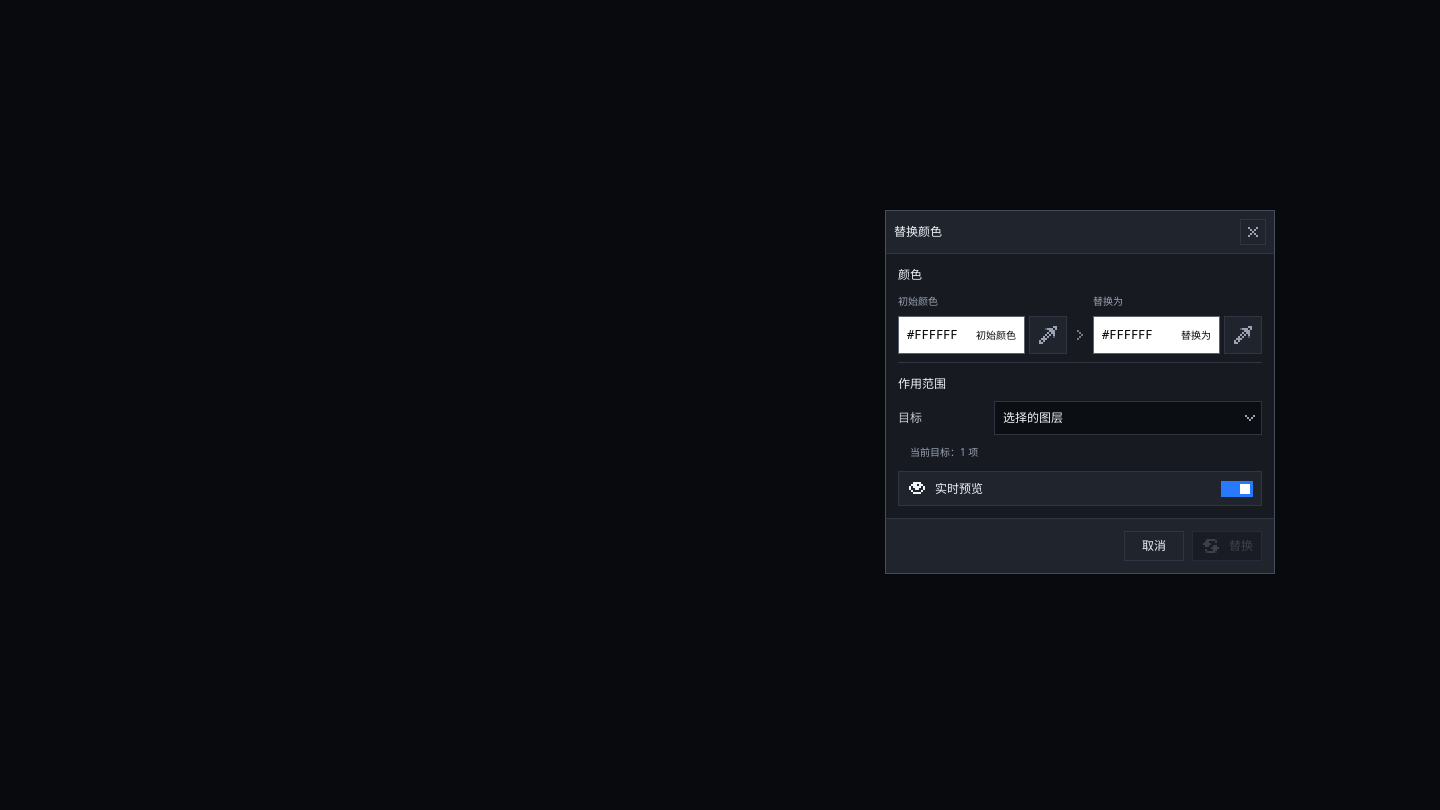
Scenario: ColorReplacementDialog › samples each color field without overwriting the other field
The image size is (1440, 810).
Click the button named "从画布吸取替换颜色".
click(1243, 335)  # box 1224,316 -> 1262,354
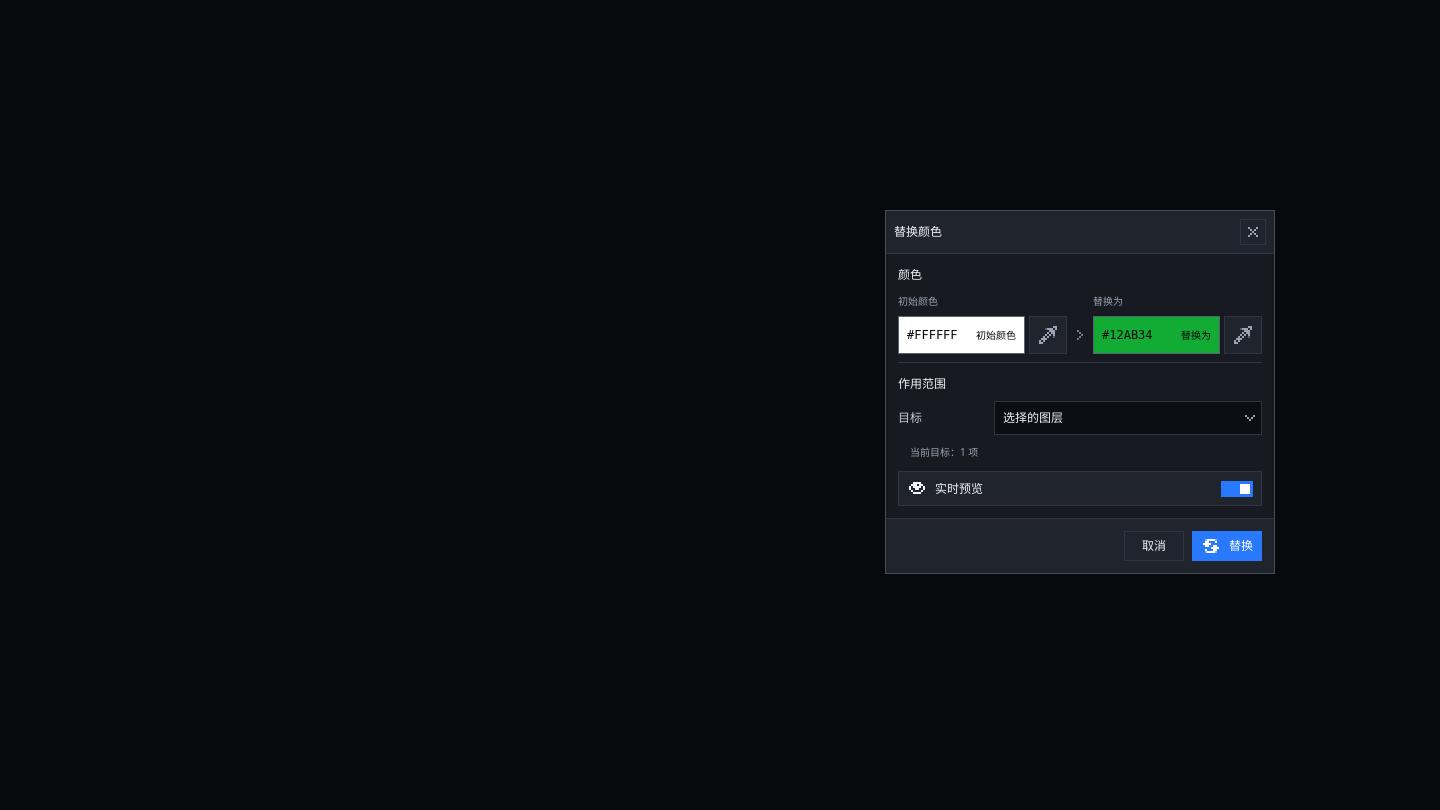
Expected: the button with aria-label "替换为 替换为" shows "#12AB34", 1093,316 -> 1220,354
Click the button named "从画布吸取初始颜色".
click(1048, 335)  # box 1029,316 -> 1067,354
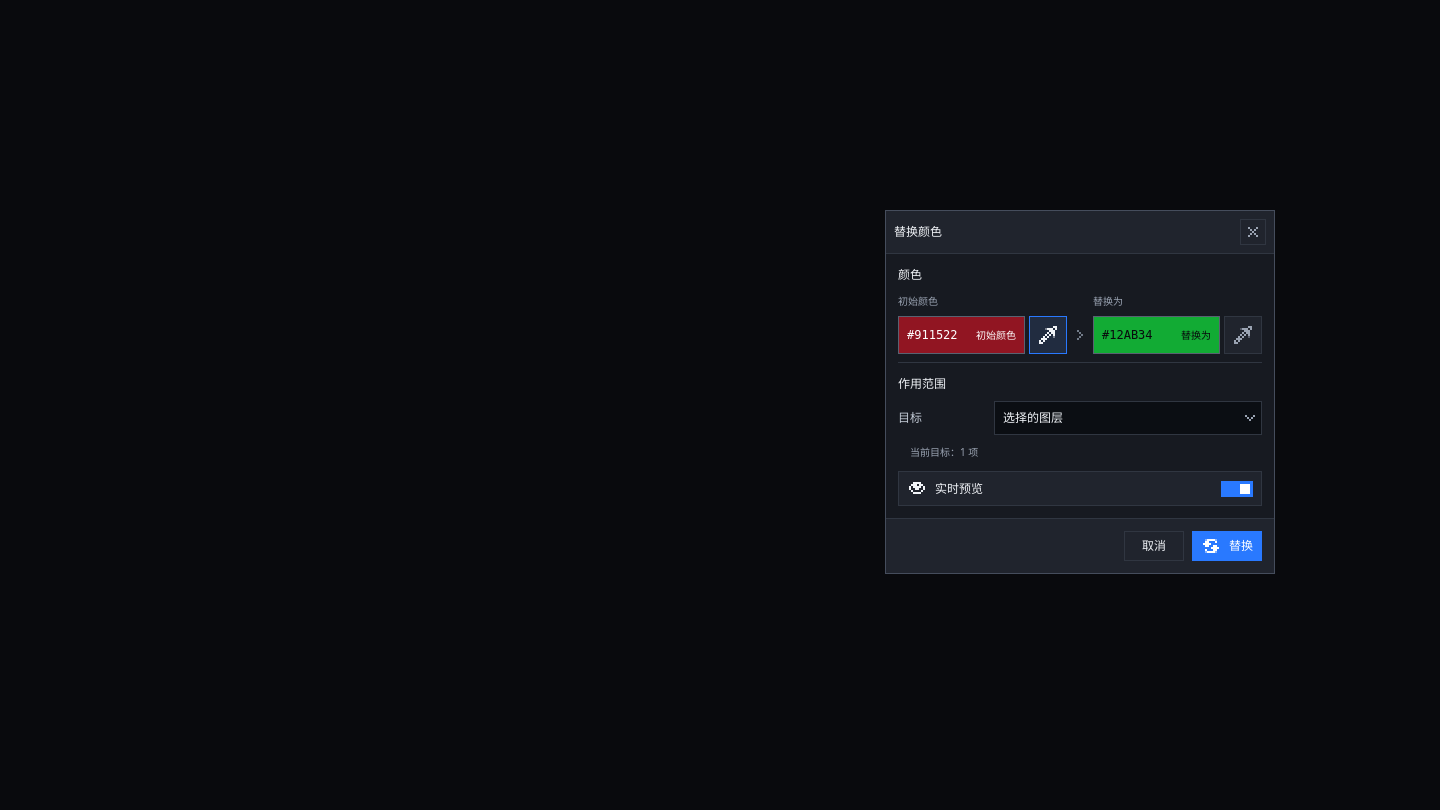
Expected: the button "#911522 初始颜色" is shown, 898,316 -> 1025,354
